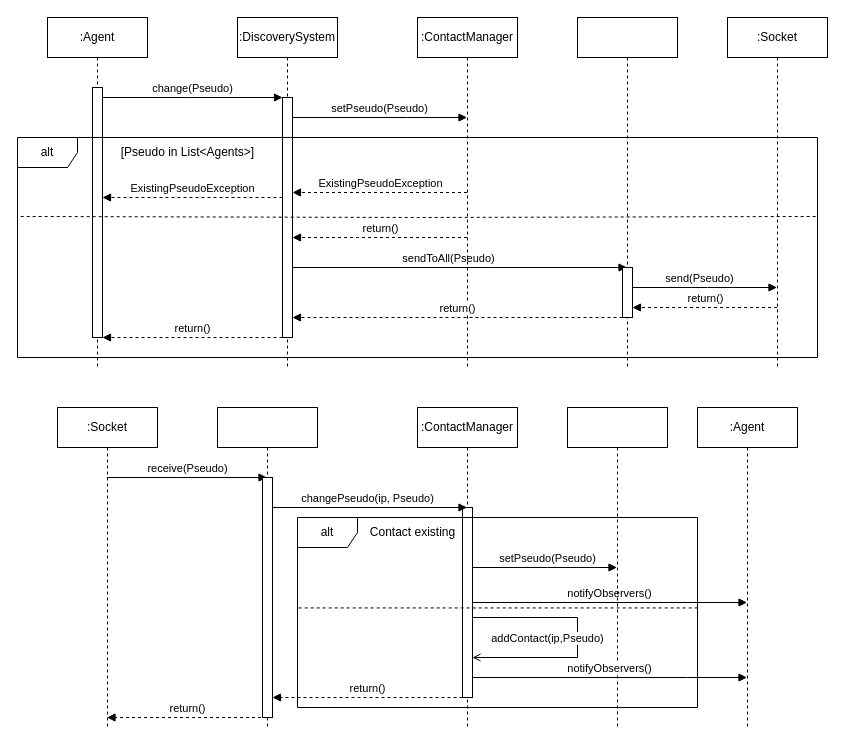
The diagram is 845 pixels wide and 745 high, and some of its shapes have lost their labels. The shapes that lost their labels are listed below. From the top down, each one's box as (x1, y1, x2, y2) in pixels, then its label:
(576, 16, 678, 368): :NetworkManager
(216, 406, 318, 728): :UDPServer
(566, 406, 668, 728): :Contact
